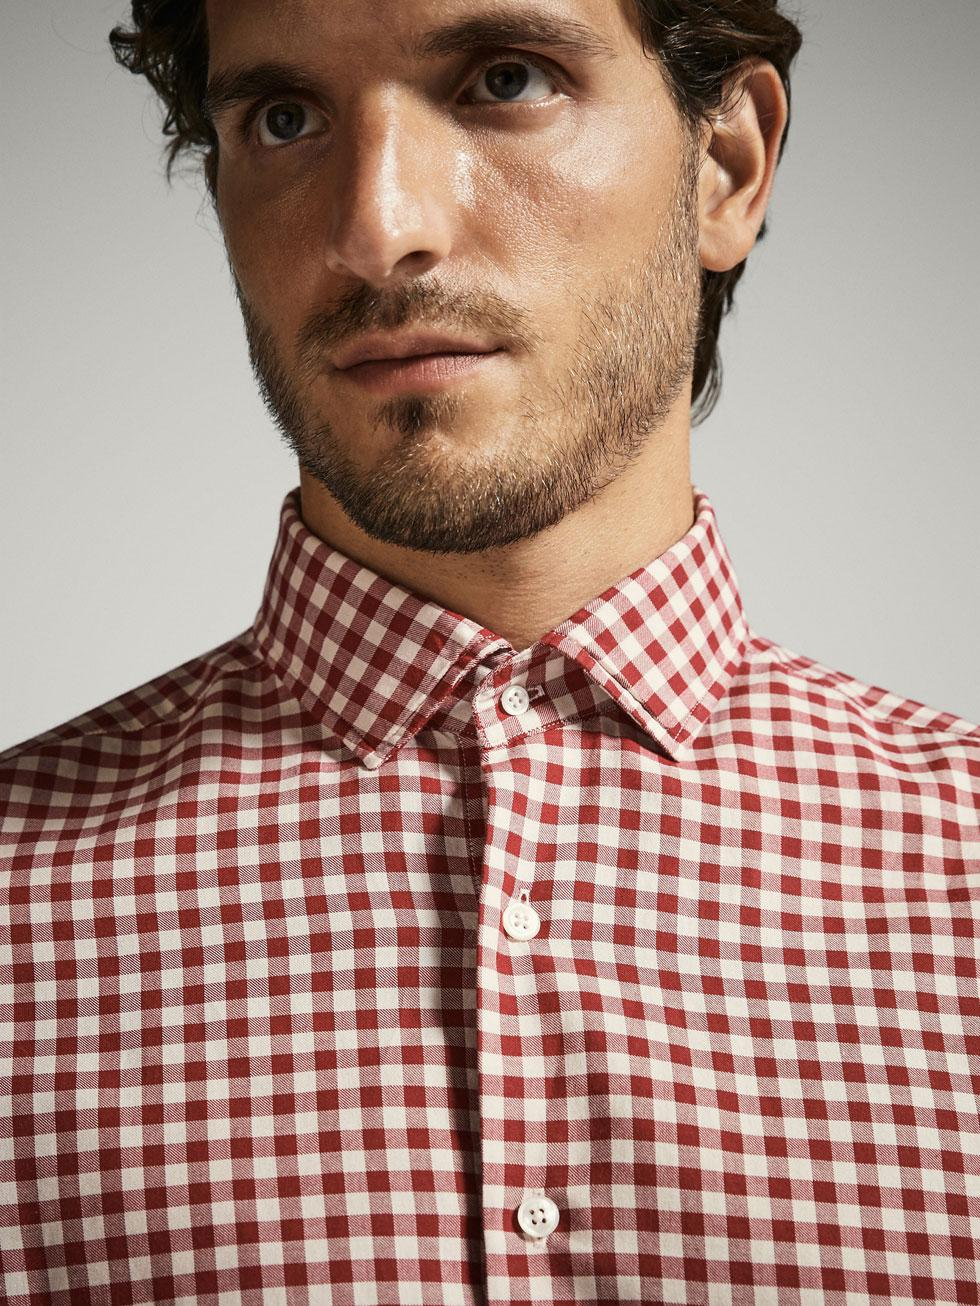teeshirt: (7, 487, 980, 1304)
